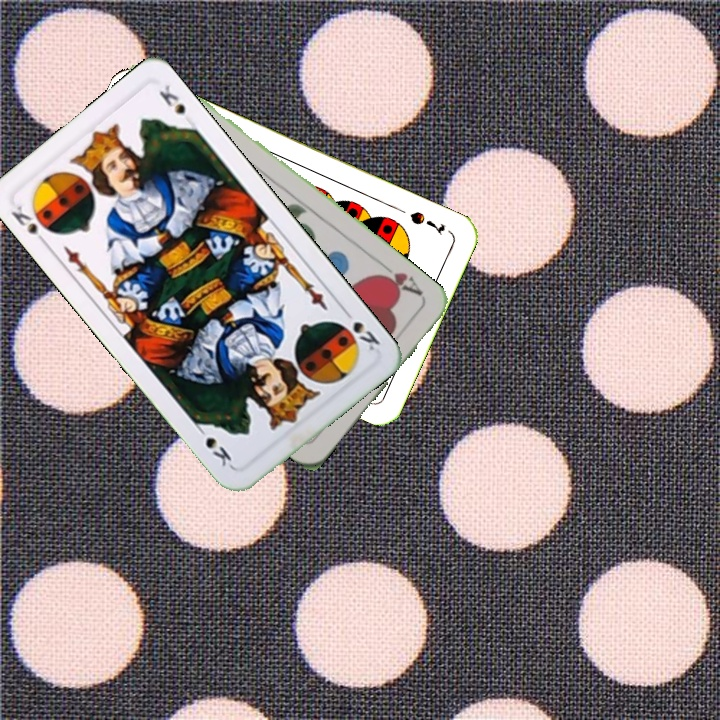HA: (371, 257, 426, 299)
S7: (405, 207, 448, 238)
SK: (6, 200, 57, 249), (338, 304, 383, 354)
